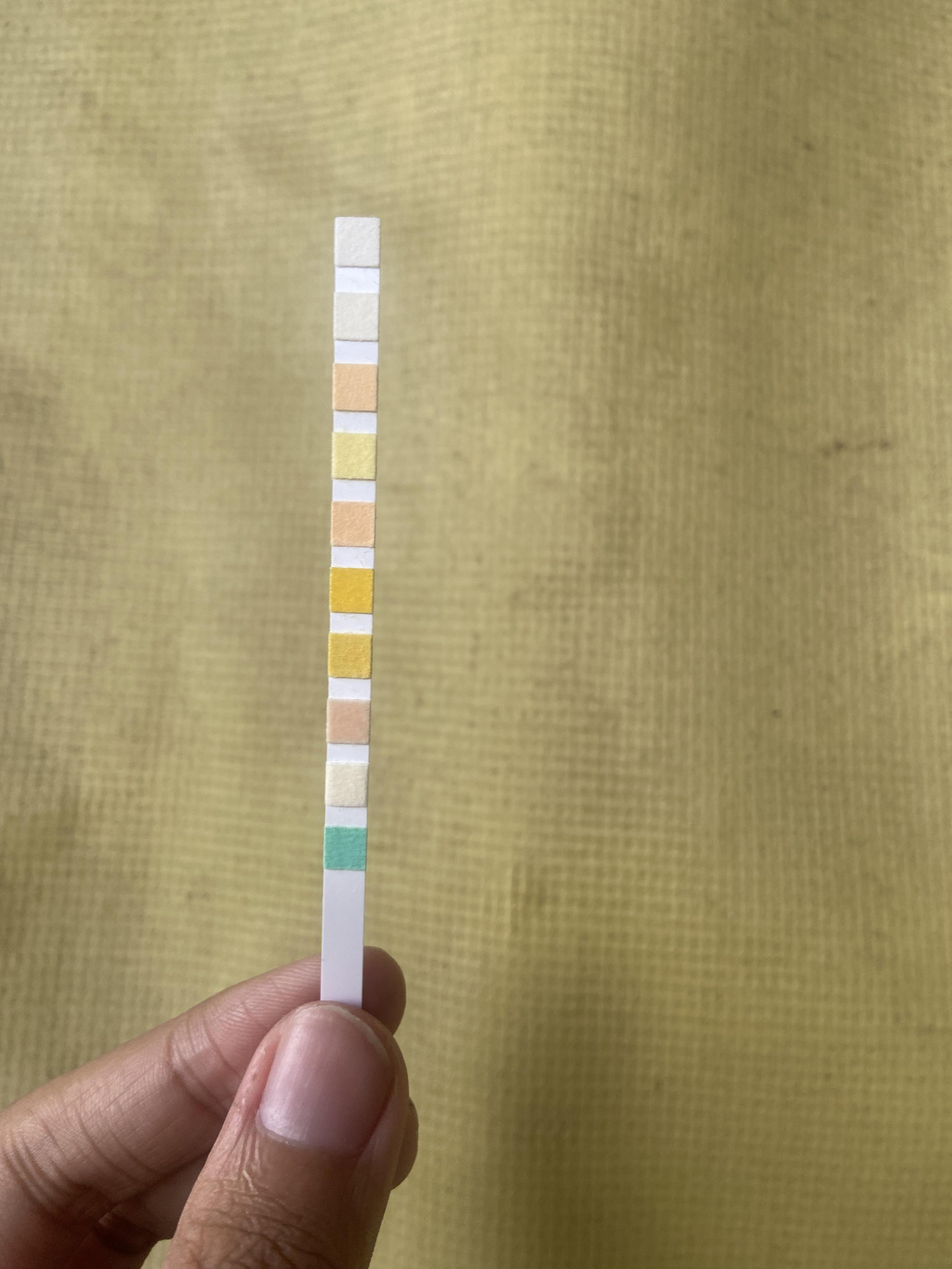Bilirubin: (326, 764, 368, 806)
Blood: (331, 569, 373, 612)
Glucose: (326, 828, 367, 870)
Ketone: (327, 699, 370, 743)
Leukocytes: (336, 218, 380, 265)
Nitrite: (334, 294, 379, 339)
Protein: (333, 434, 376, 478)
SpGravity: (329, 634, 371, 678)
Urobilinogen: (334, 364, 376, 410)
pH: (332, 503, 375, 546)
strip: (323, 216, 381, 1001)
